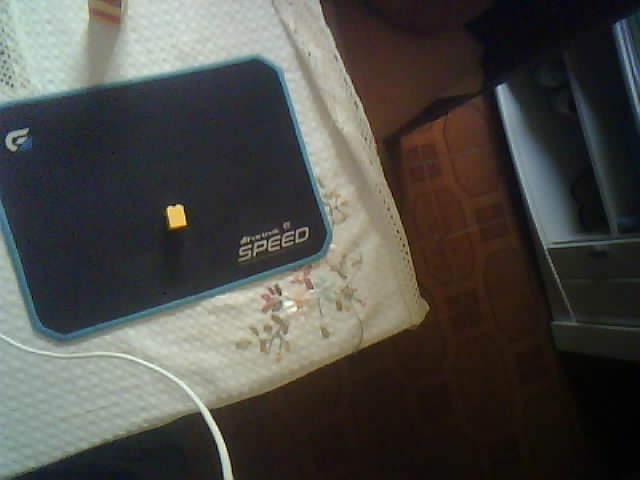lego: (85, 1, 130, 28), (164, 203, 187, 232)
